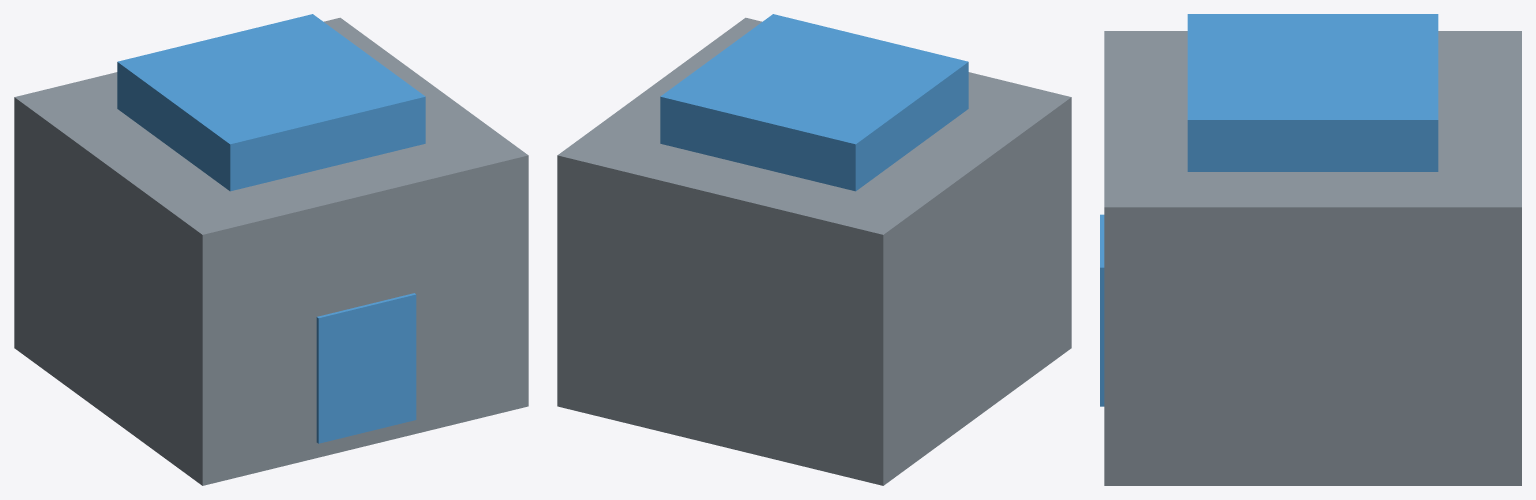
The model's file is AL_SuperweaponOrbital_LOD0.glb.
3 views of the same model, side by side, from view 1: azimuth 30°, elevation 25°; view 2: azimuth 150°, elevation 25°; view 3: azimuth 270°, elevation 25° (orthographic). The views are drawn at different scales.
Visible parts, largest first — view 1: EntranceGate; view 2: EntranceGate; view 3: EntranceGate.
Part boxes in pixels (x1,y1,x2,y2): EntranceGate: (14, 14, 528, 485); EntranceGate: (557, 14, 1071, 485); EntranceGate: (1100, 14, 1521, 485).
Size of the model in its own units: 1000 by 874 by 1010.
